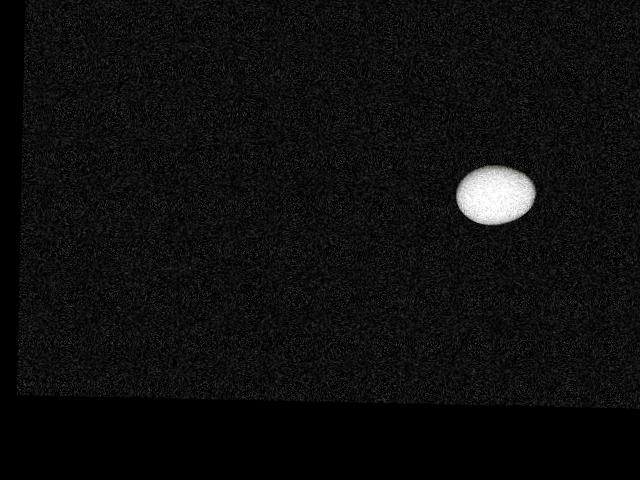egg: (454, 165, 535, 225)
